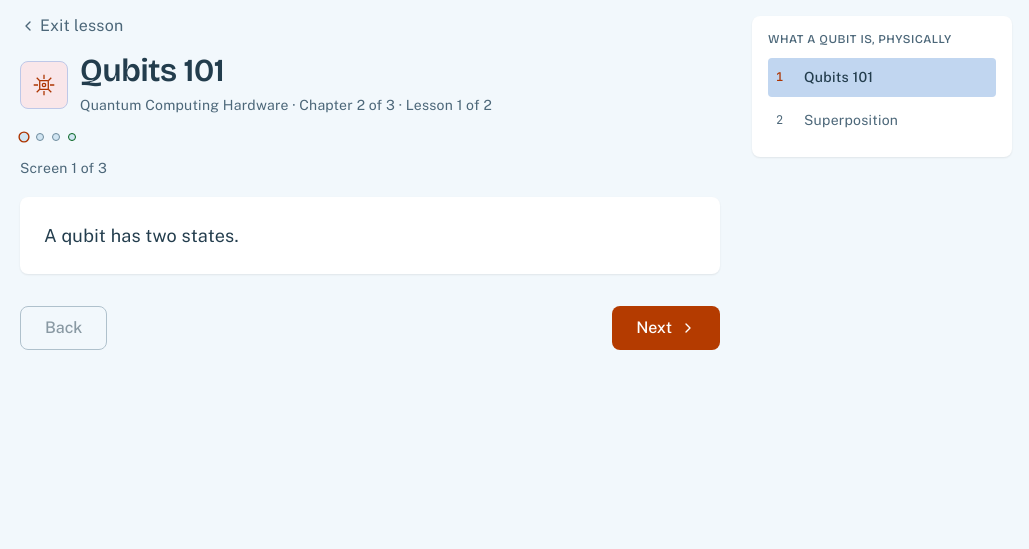
a question screen disables Next until the attempt reaches a terminal state
Expected: the text "A qubit has two states." is shown, top-left (44, 225), bottom-right (239, 246)
Click the button "Next" at (666, 328), box top-left (612, 306), bottom-right (720, 350)
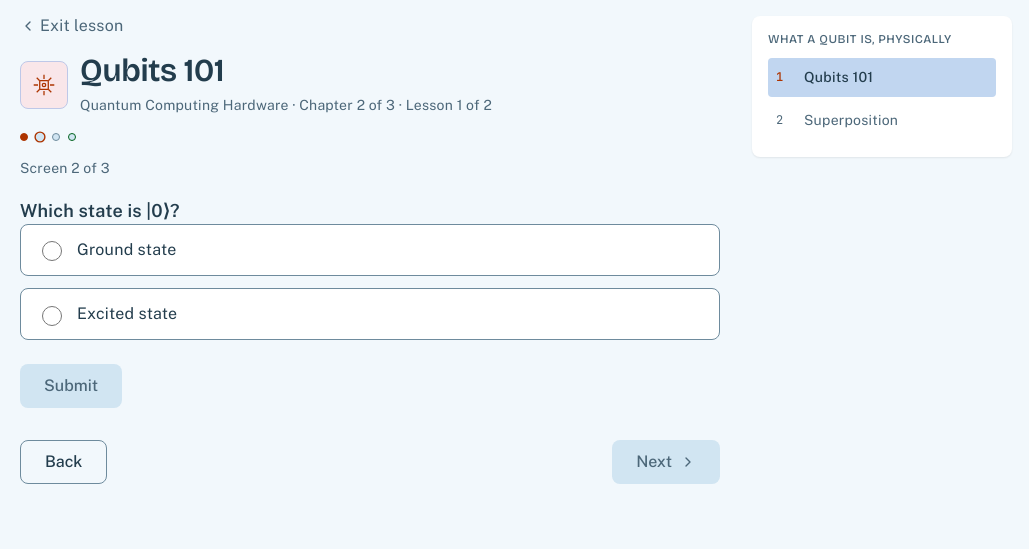
Expected: the button "Next" is disabled, top-left (612, 440), bottom-right (720, 484)
Click the radio button labelled "Ground state" at (52, 251), box top-left (42, 241), bottom-right (62, 261)
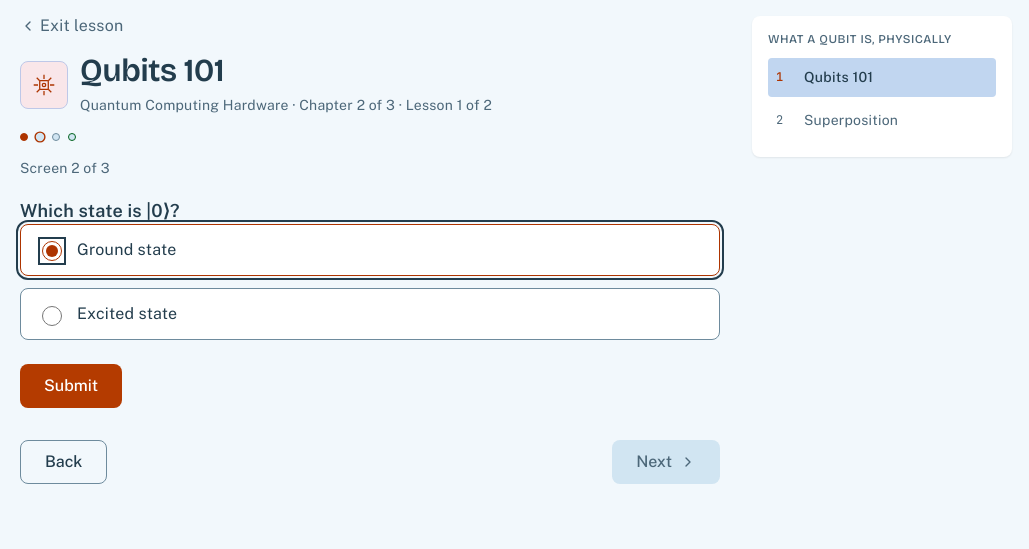
Click the button "Submit" at (71, 386), box top-left (20, 364), bottom-right (122, 408)
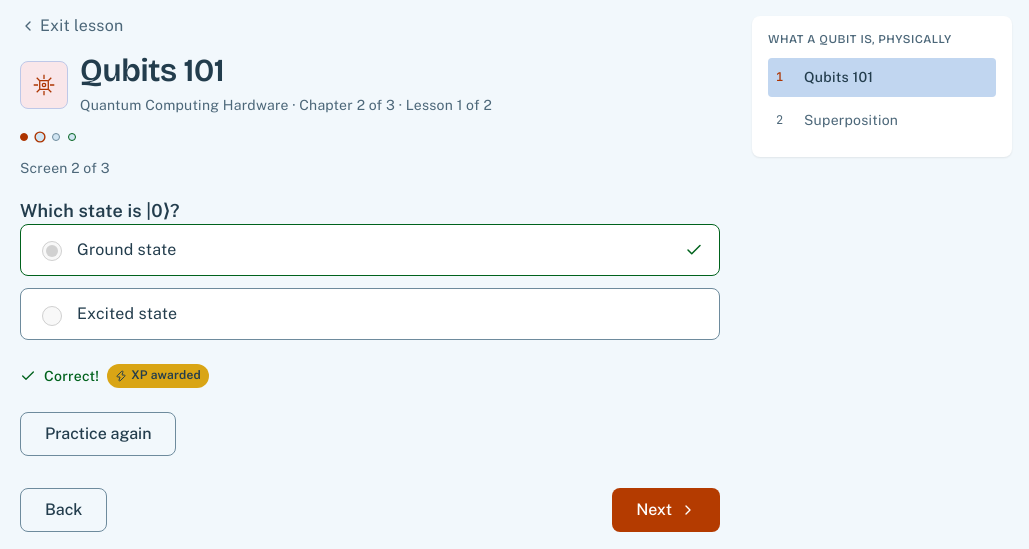
Expected: the text "Correct!" is shown, top-left (44, 365), bottom-right (99, 388)
Expected: the button "Next" is enabled, top-left (612, 488), bottom-right (720, 532)
